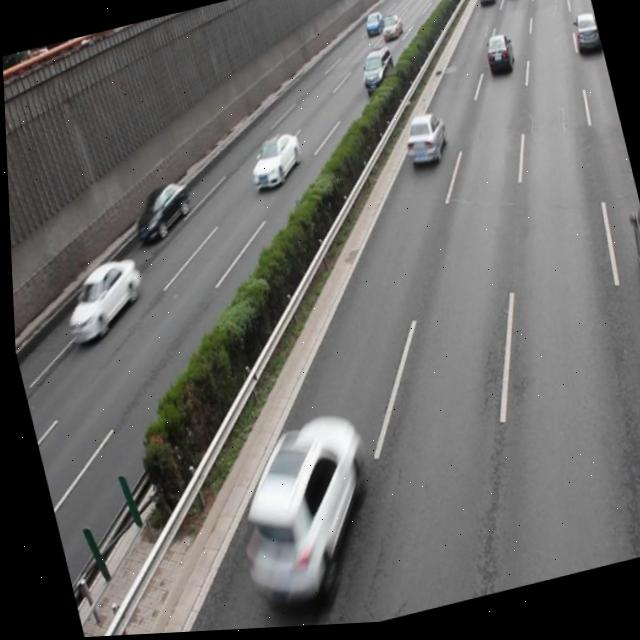car: (209, 412, 386, 619), (52, 254, 150, 348), (125, 179, 194, 247), (242, 129, 306, 195), (396, 112, 449, 174), (622, 212, 640, 328), (479, 37, 516, 85), (567, 17, 602, 62)
truck: (355, 49, 397, 99)
